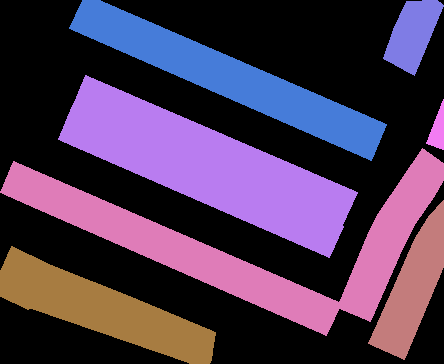parkingspot: (0, 161, 341, 335), (69, 0, 386, 160), (71, 75, 357, 227), (58, 105, 343, 257), (0, 246, 215, 363), (337, 148, 443, 321), (368, 200, 444, 359), (383, 0, 443, 75), (426, 97, 444, 149)
